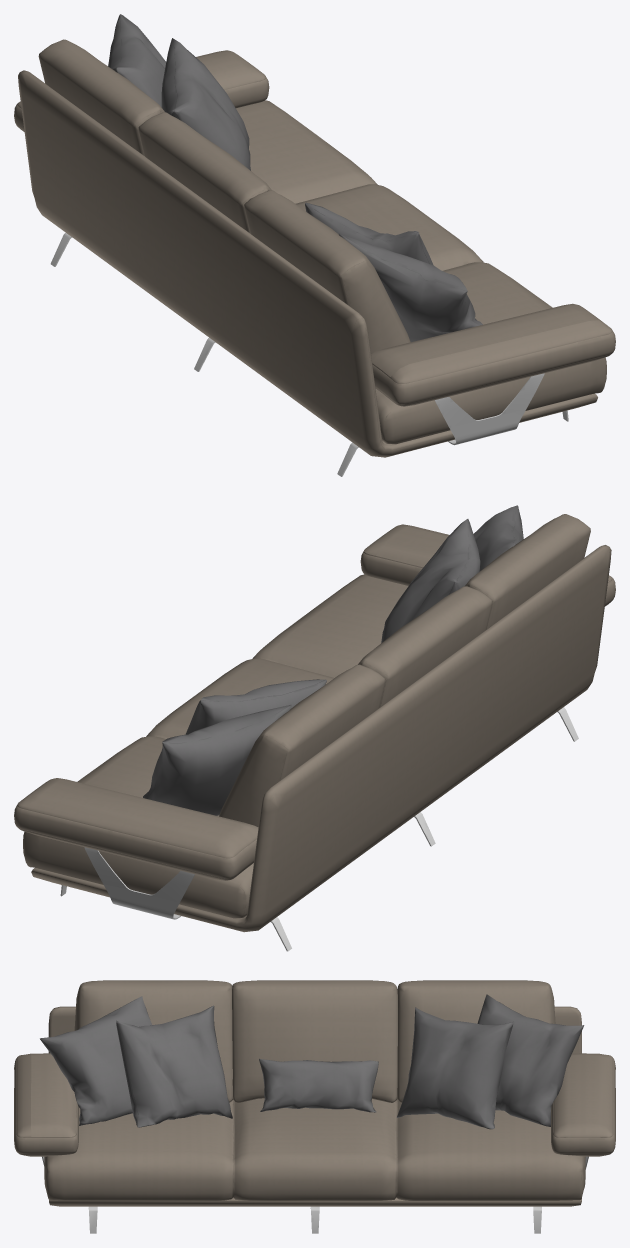
Rendered from lounge_sofa.glb.
The picture shows the model from 3 angles, top to bottom: view 1: azimuth 30°, elevation 25°; view 2: azimuth 150°, elevation 25°; view 3: azimuth 270°, elevation 25°; orthographic projection. The views are drawn at different scales.
Parts seen in each view (by area): view 1: SM_Modern_Sofa_2; view 2: SM_Modern_Sofa_2; view 3: SM_Modern_Sofa_2.
Part boxes in pixels (x1,y1,x2,y2): SM_Modern_Sofa_2: (14, 14, 615, 476); SM_Modern_Sofa_2: (14, 505, 615, 951); SM_Modern_Sofa_2: (14, 980, 615, 1233).
Bounding box in the file's own units: 1.04 × 0.8559 × 2.76.
Materials: 1 (1 with a texture image).
